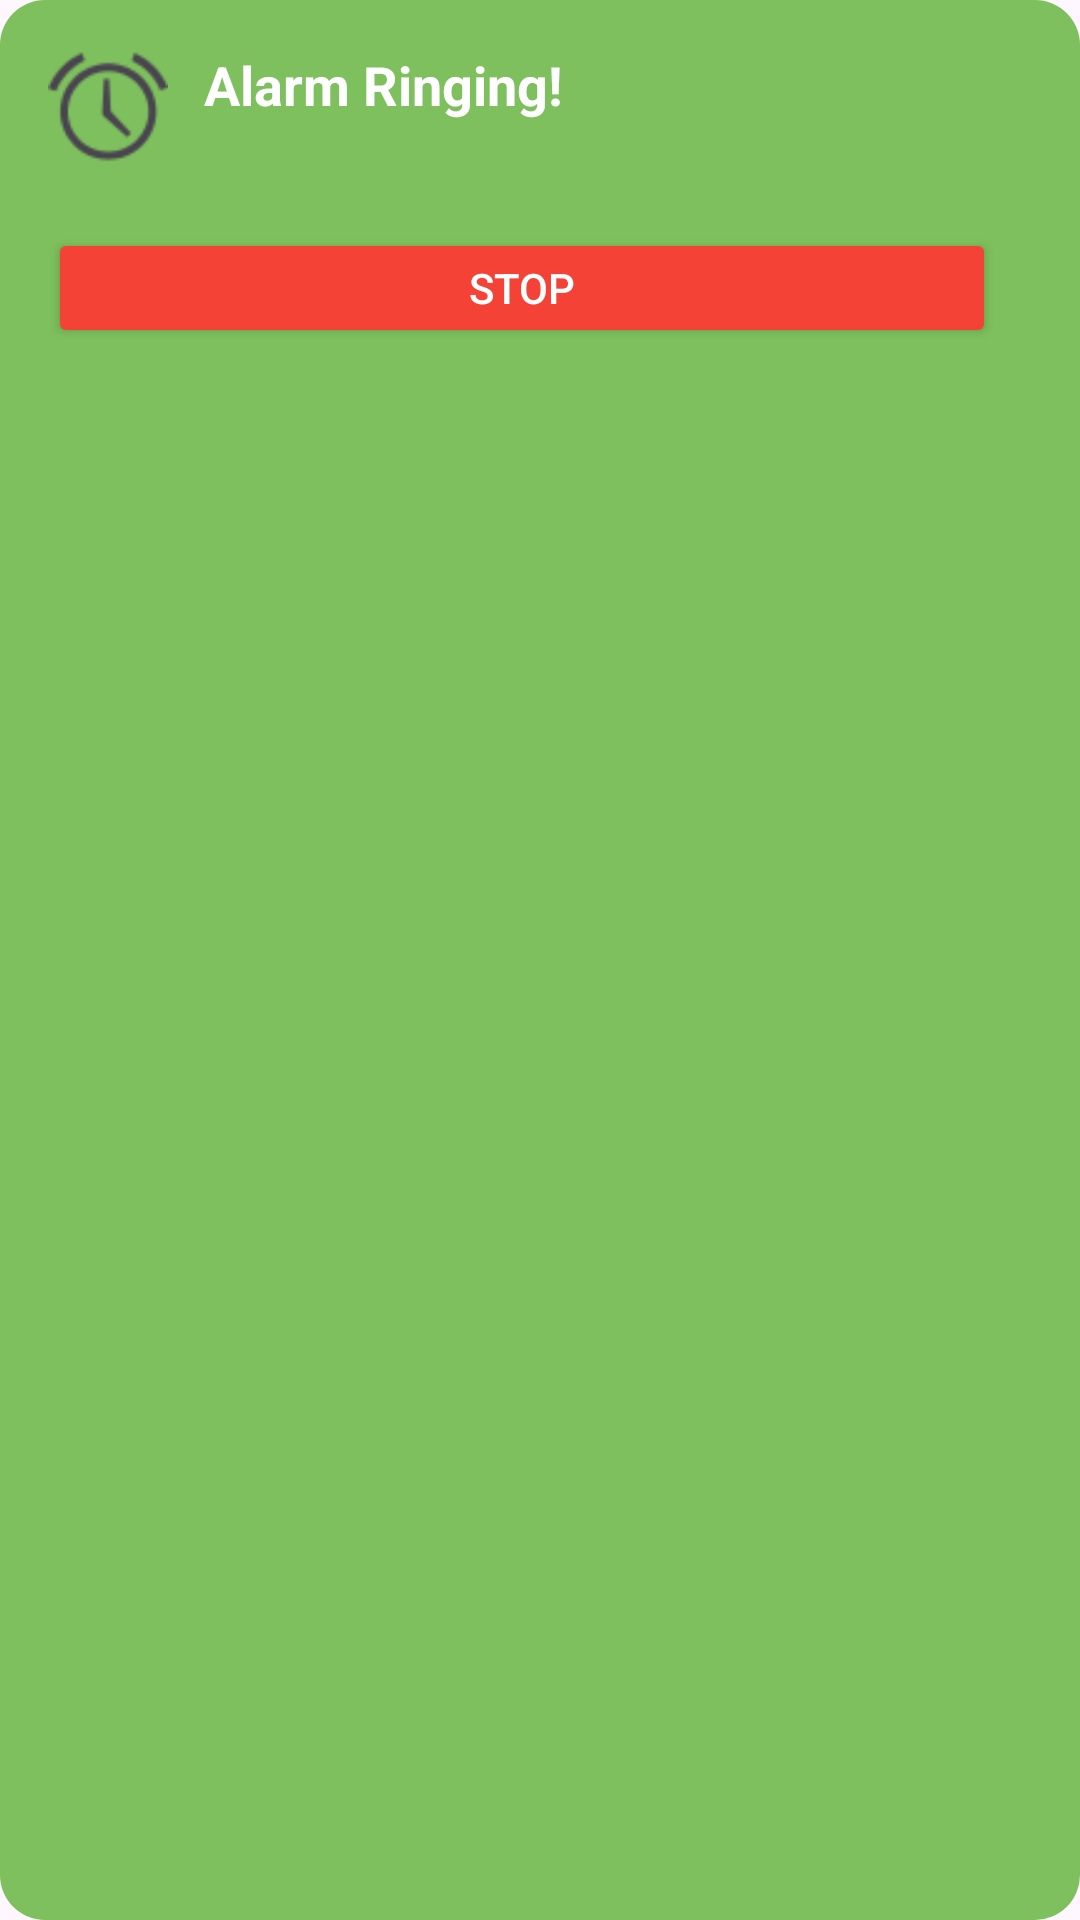

Icons on this 1080w x 1920h Android screen, each with its box as (x1, y1, x2, y2):
lock idle alarm: (48, 52, 168, 161)
